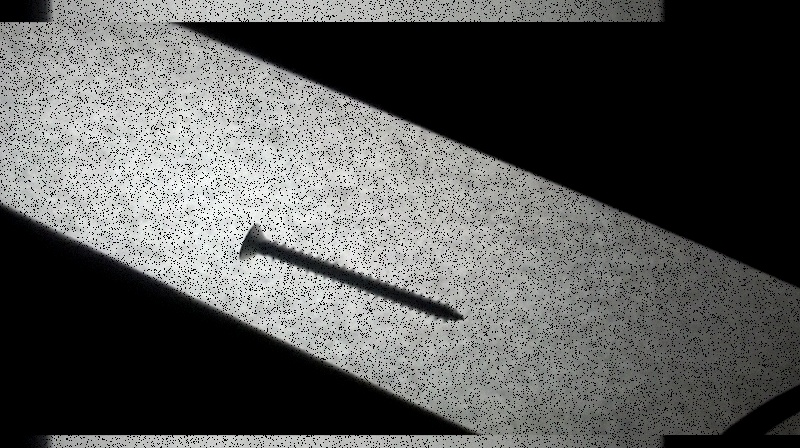S002: (232, 219, 469, 326)
